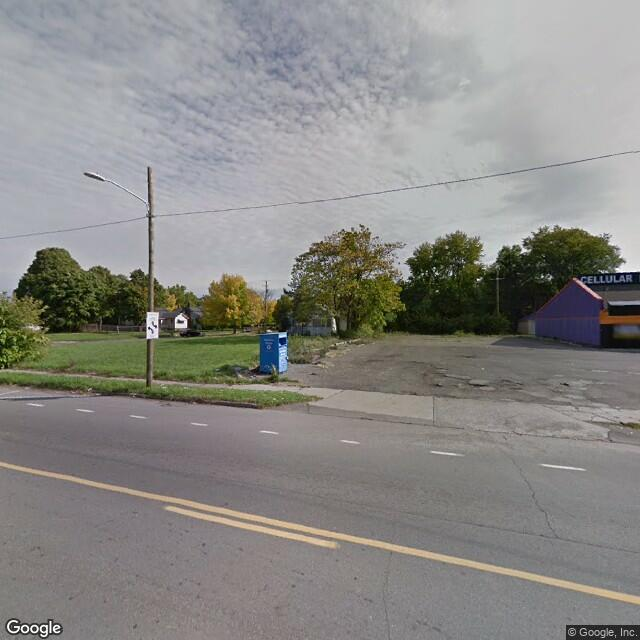litter: (480, 365, 487, 373), (86, 387, 92, 390)
